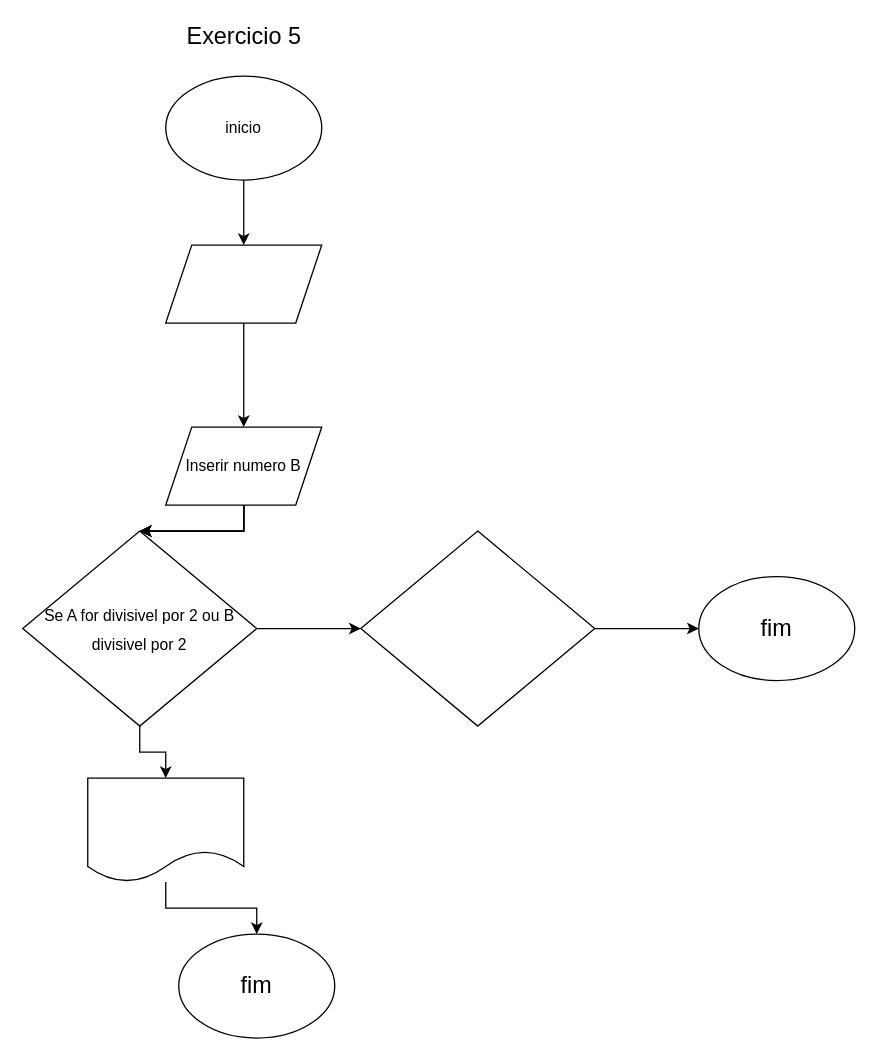
Image size: 877x1061. Some labels were removed from this diagram. The shapes that lost their labels are listed below. From the top down, each one's centre as x and y in pixels, then its label:
At (243,283): "Inserir numero A".
At (477,628): "Se não".
At (165,829): "Imprima o numero par".
